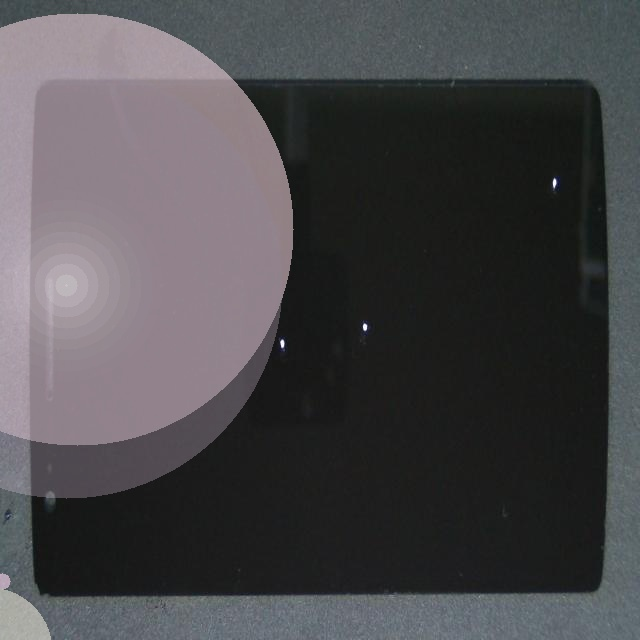stain: (146, 235, 532, 559), (151, 151, 418, 469), (307, 81, 640, 243)
